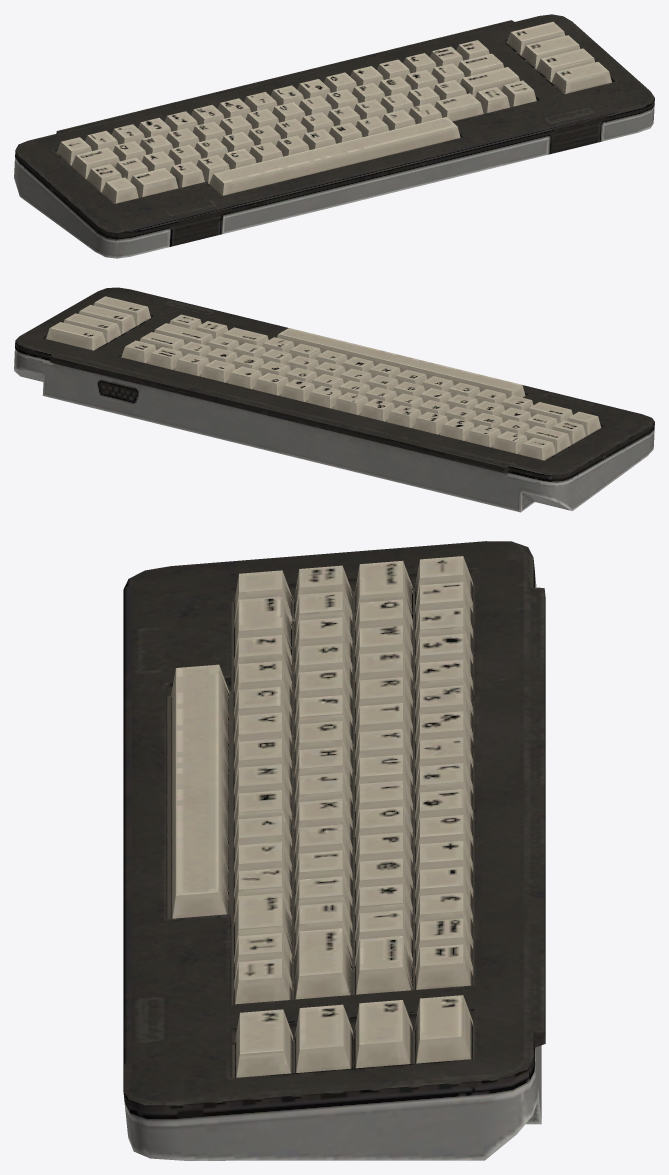
Rendered from SM_Retro_Tech_Set_01e.gltf.
3 views of the same model, one above another, from view 1: azimuth 30°, elevation 25°; view 2: azimuth 150°, elevation 25°; view 3: azimuth 270°, elevation 25° (orthographic). The views are drawn at different scales.
Parts seen in each view (by area): view 1: SM_Retro_Tech_Set_01e; view 2: SM_Retro_Tech_Set_01e; view 3: SM_Retro_Tech_Set_01e.
Part boxes in pixels (bbox=[...]): SM_Retro_Tech_Set_01e: bbox=[14, 14, 654, 258]; SM_Retro_Tech_Set_01e: bbox=[14, 287, 654, 512]; SM_Retro_Tech_Set_01e: bbox=[123, 541, 545, 1160].
Size of the model in its own units: 0.3604 by 0.0312 by 0.1193.
1 material, 1 textured.
